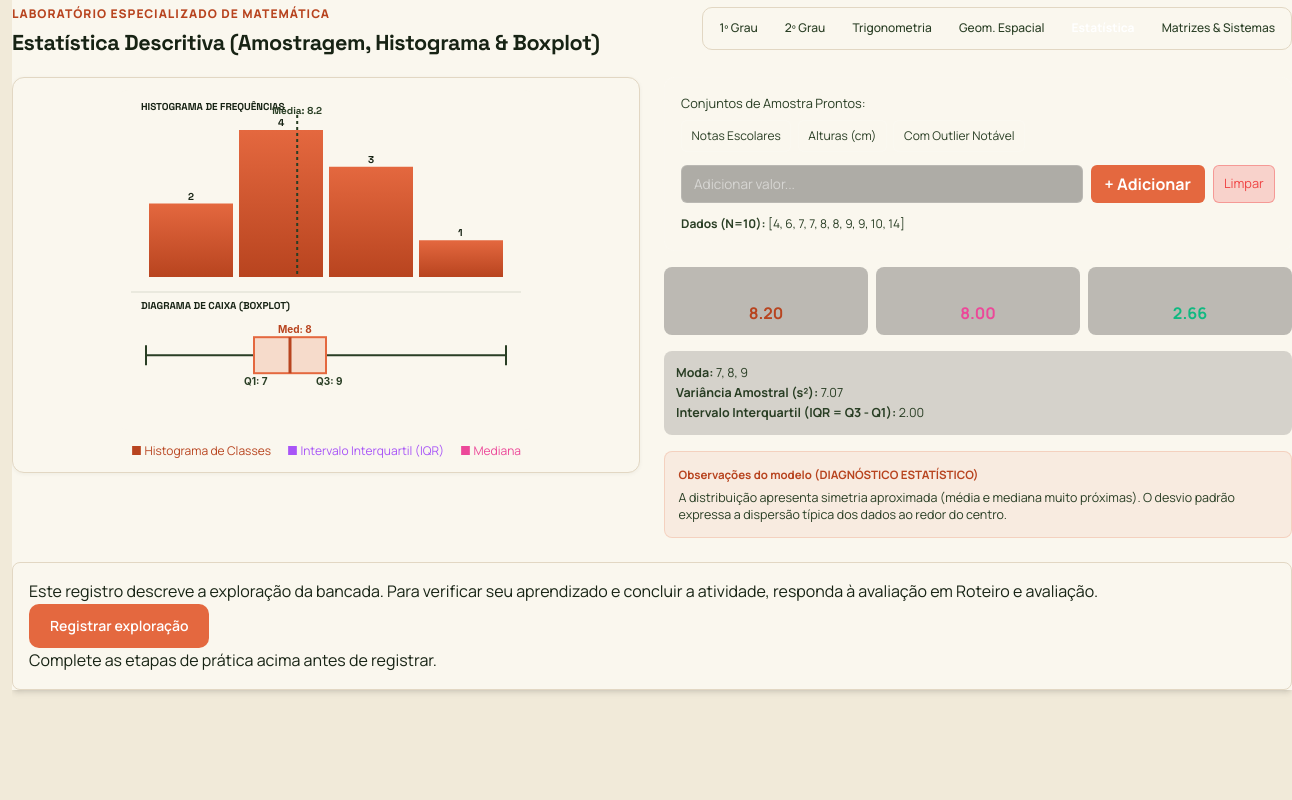
Test case: MathSimulator - 6 Unique Specialized Laboratories Suite › 5. Statistics Mode renders Dataset, Frequency, Mean, Median, and Boxplot
The width and height of the screenshot is (1292, 800).
Expected: the heading "Estatística Descritiva (Amostragem, Histograma & Boxplot)" is shown, [12,29,599,57]
Expected: the button "Notas Escolares" is shown, [681,120,791,152]
Clica no preset de outlier
Click the button "Com Outlier Notável" at (959, 136), box [894,120,1025,152]
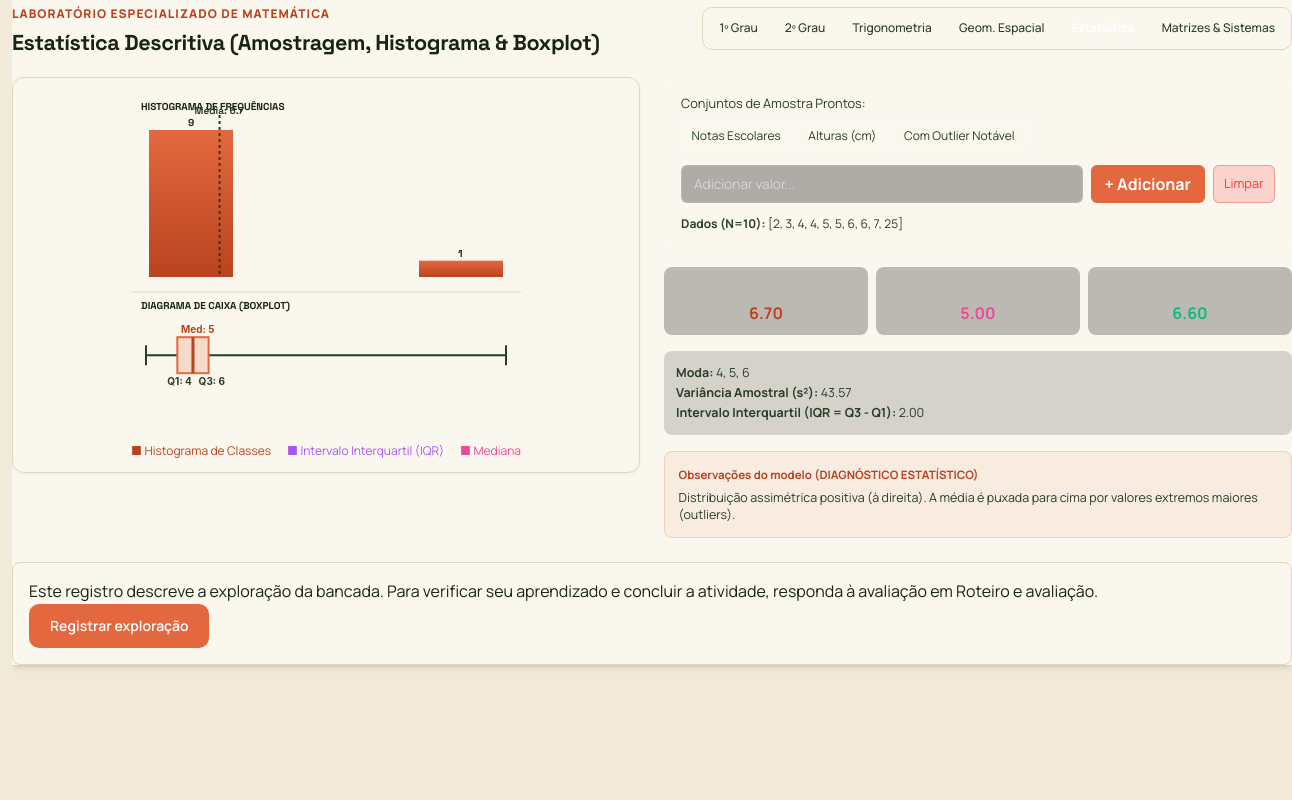
Type "6" into the number field at (882, 184), box [681,166,1083,203]
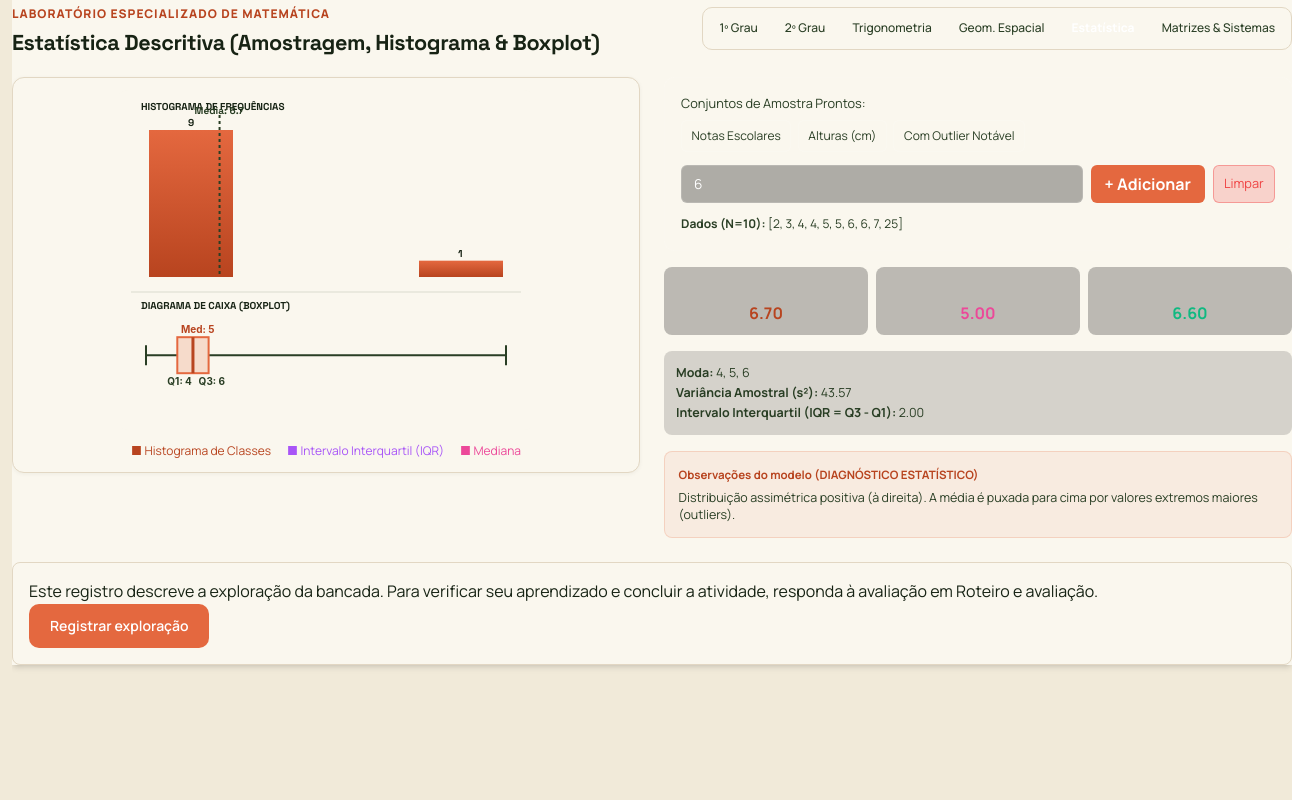
Click the button "Registrar exploração" at (119, 626), box [29,604,210,648]
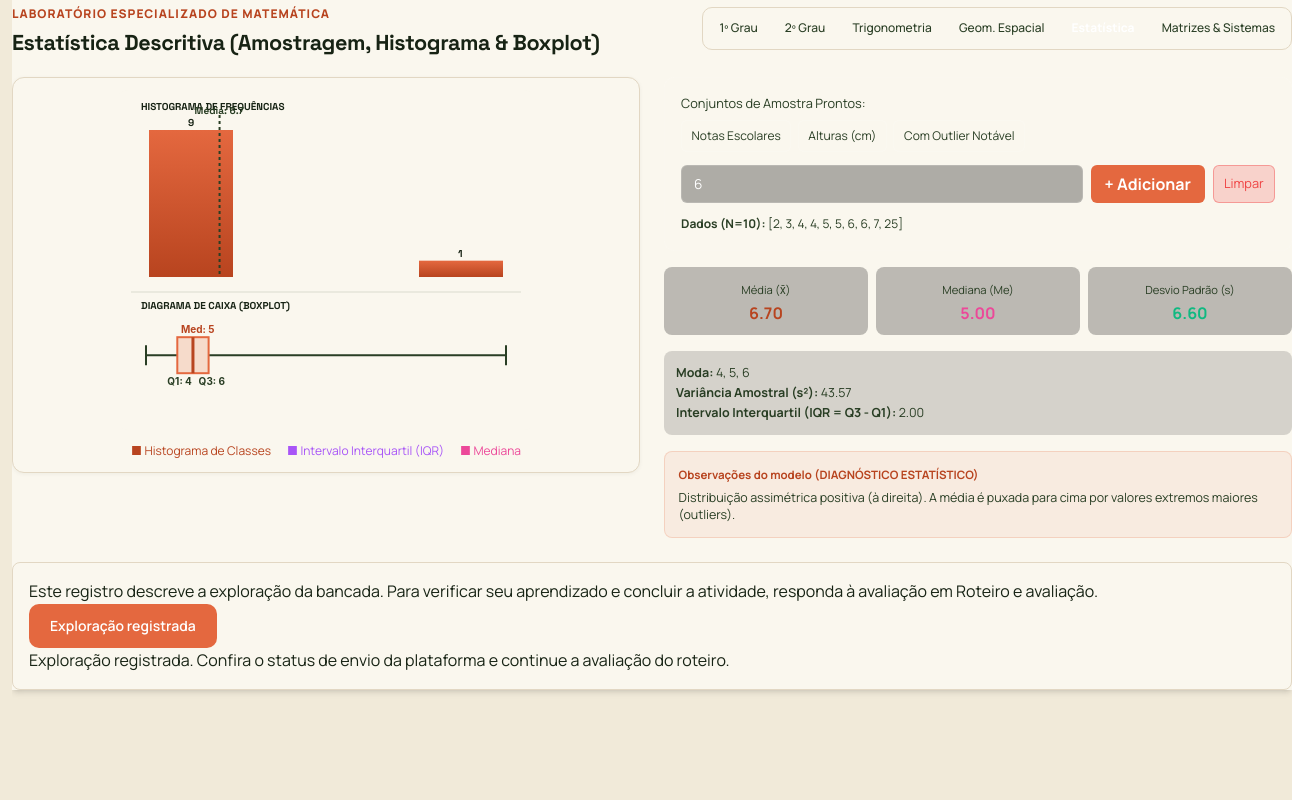
Expected: the button "Exploração registrada" is shown, [29,604,217,648]
